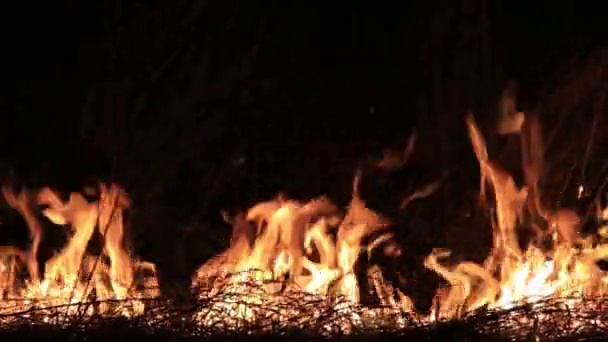fire: (191, 199, 386, 331), (423, 199, 607, 326), (10, 186, 133, 309)
